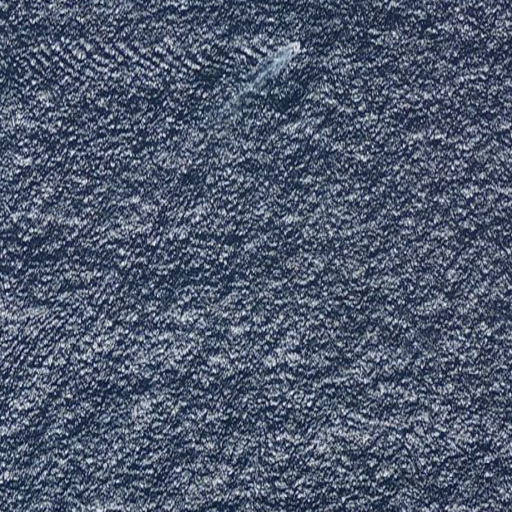ship: (291, 40, 301, 56)
